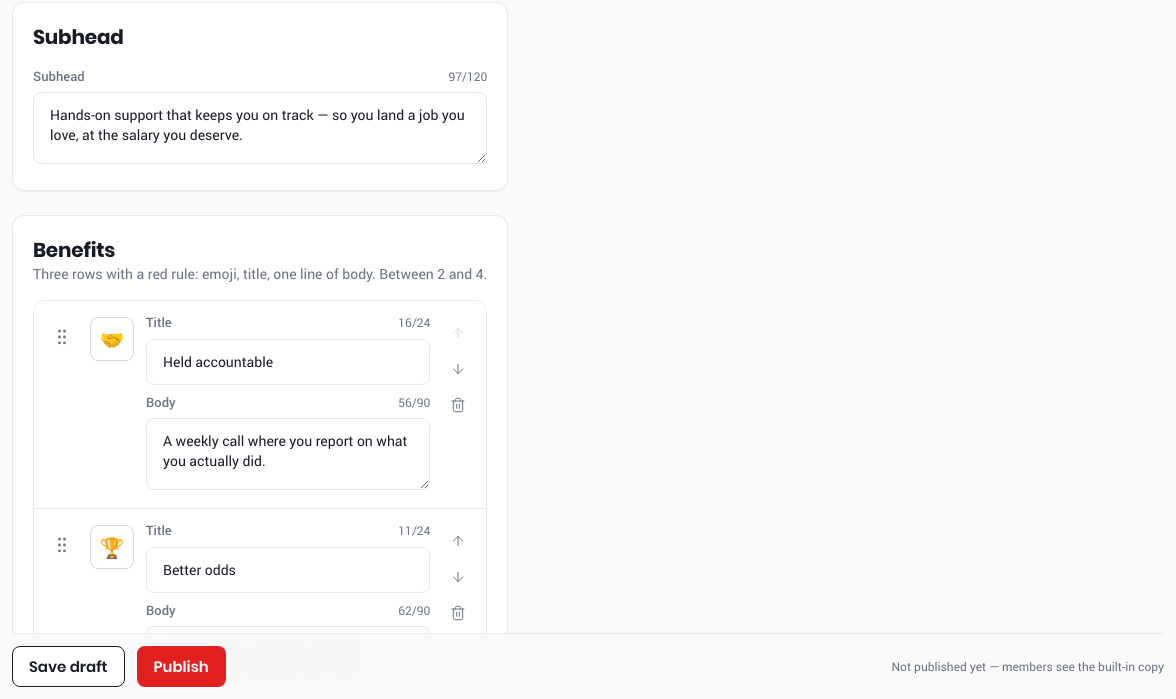
Test case: Admin → Coaching tab › picks emoji only from the brand set
(page scrolled)
Click the button named "Benefit 1 emoji: 🤝": click(112, 339) [90,317,134,361]
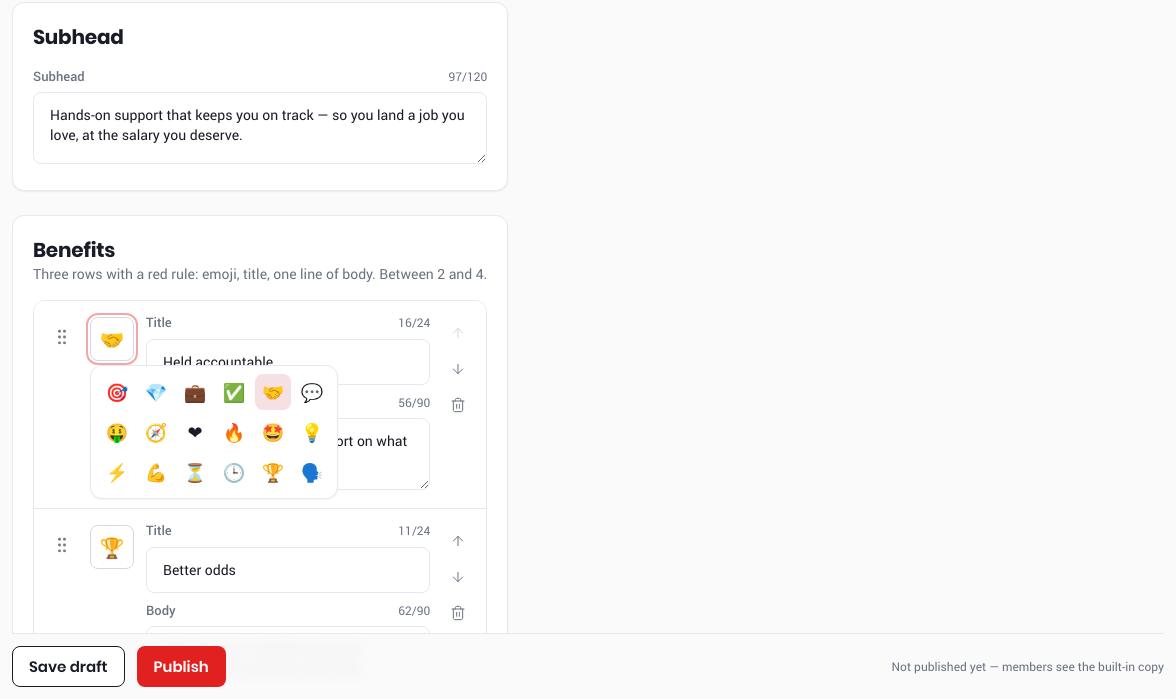
Click the option "🔥": click(234, 432) [216,414,252,450]
(page scrolled)
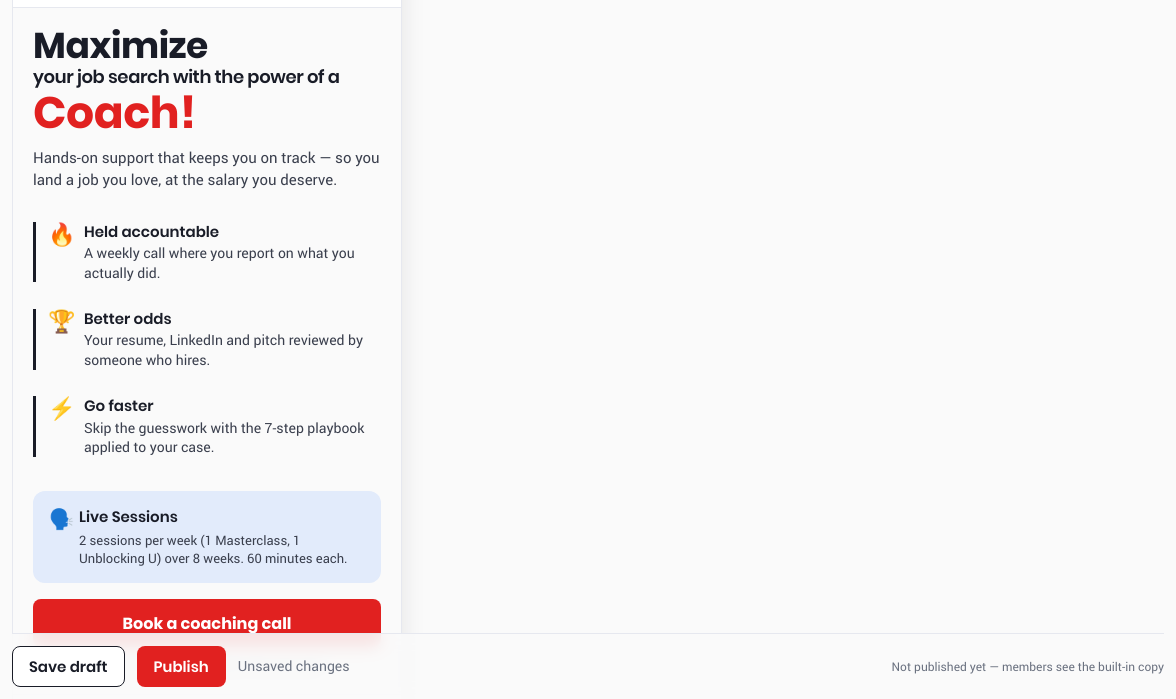
Result: the list "🎯 💎 💼 ✅ 🤝 💬 🤑 🧭 ❤ 🔥 🤩 💡 ⚡ 💪 ⏳ 🕒 🏆 🗣️" is gone
